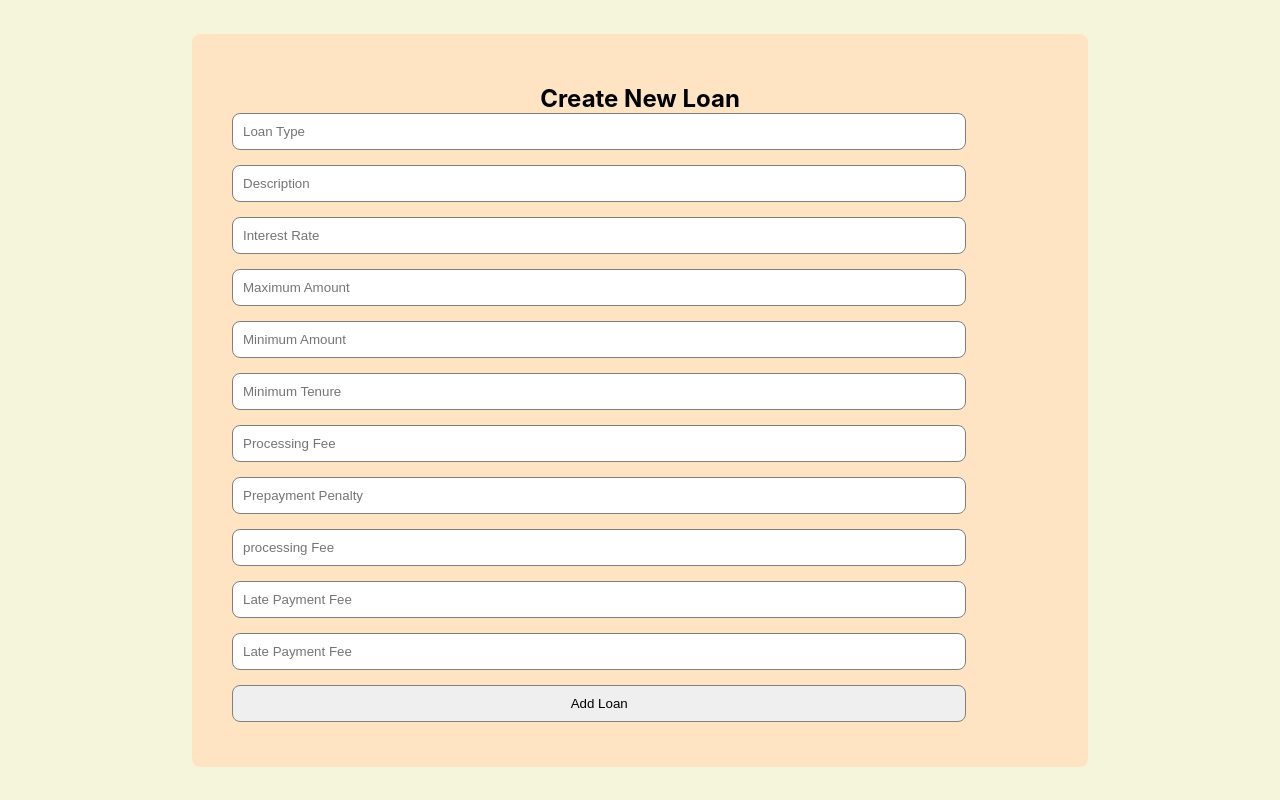
Test: LoanForm Component › frontend_loanform_loan_manager_component_displays_required_validation_messages
// Click to trigger validation
Click the button "Add Loan". click: (599, 703)
box: [232, 684, 966, 722]
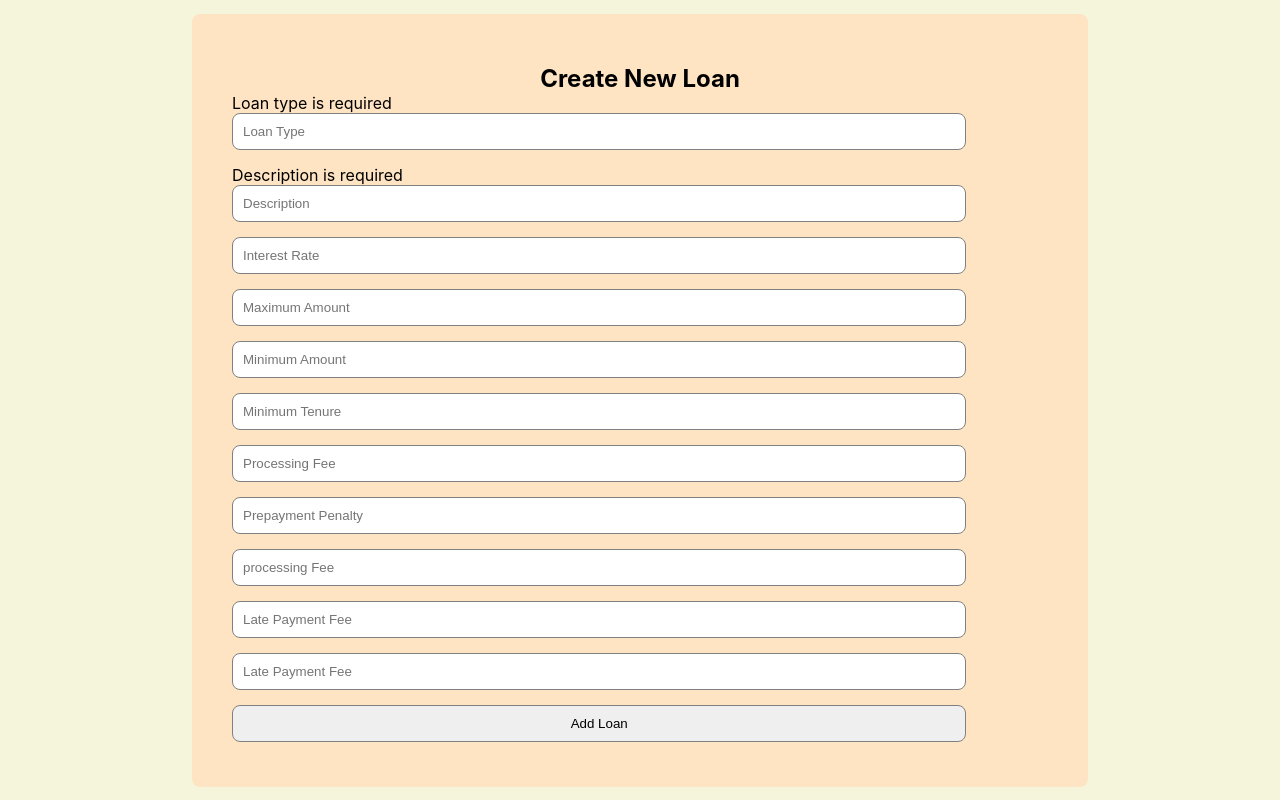
Expected: the text "Loan type is required" is shown, [232, 92, 392, 112]
Expected: the text "Description is required" is shown, [232, 164, 403, 184]
